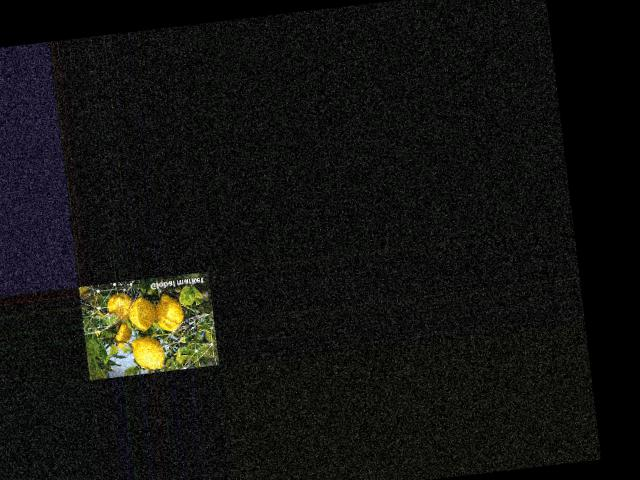lemon: (129, 332, 166, 374)
